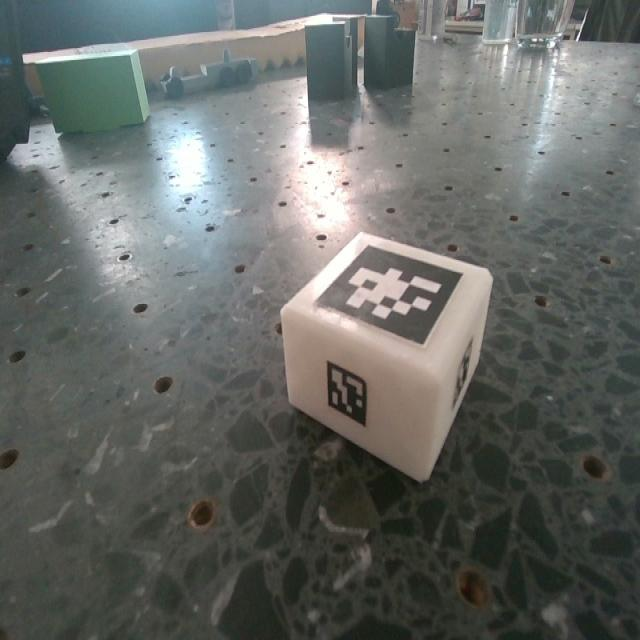Cube: (281, 233, 493, 487)
